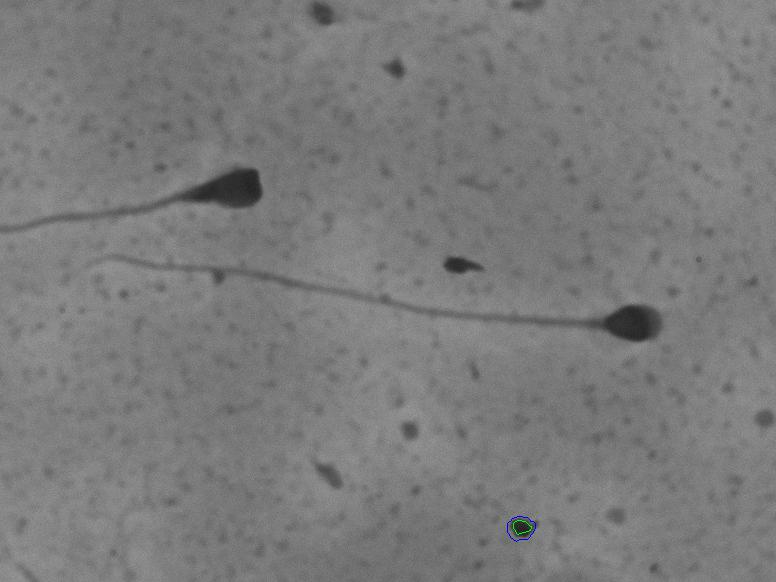Abnormal: (23, 112, 271, 270)
Normal: (50, 239, 703, 388)
